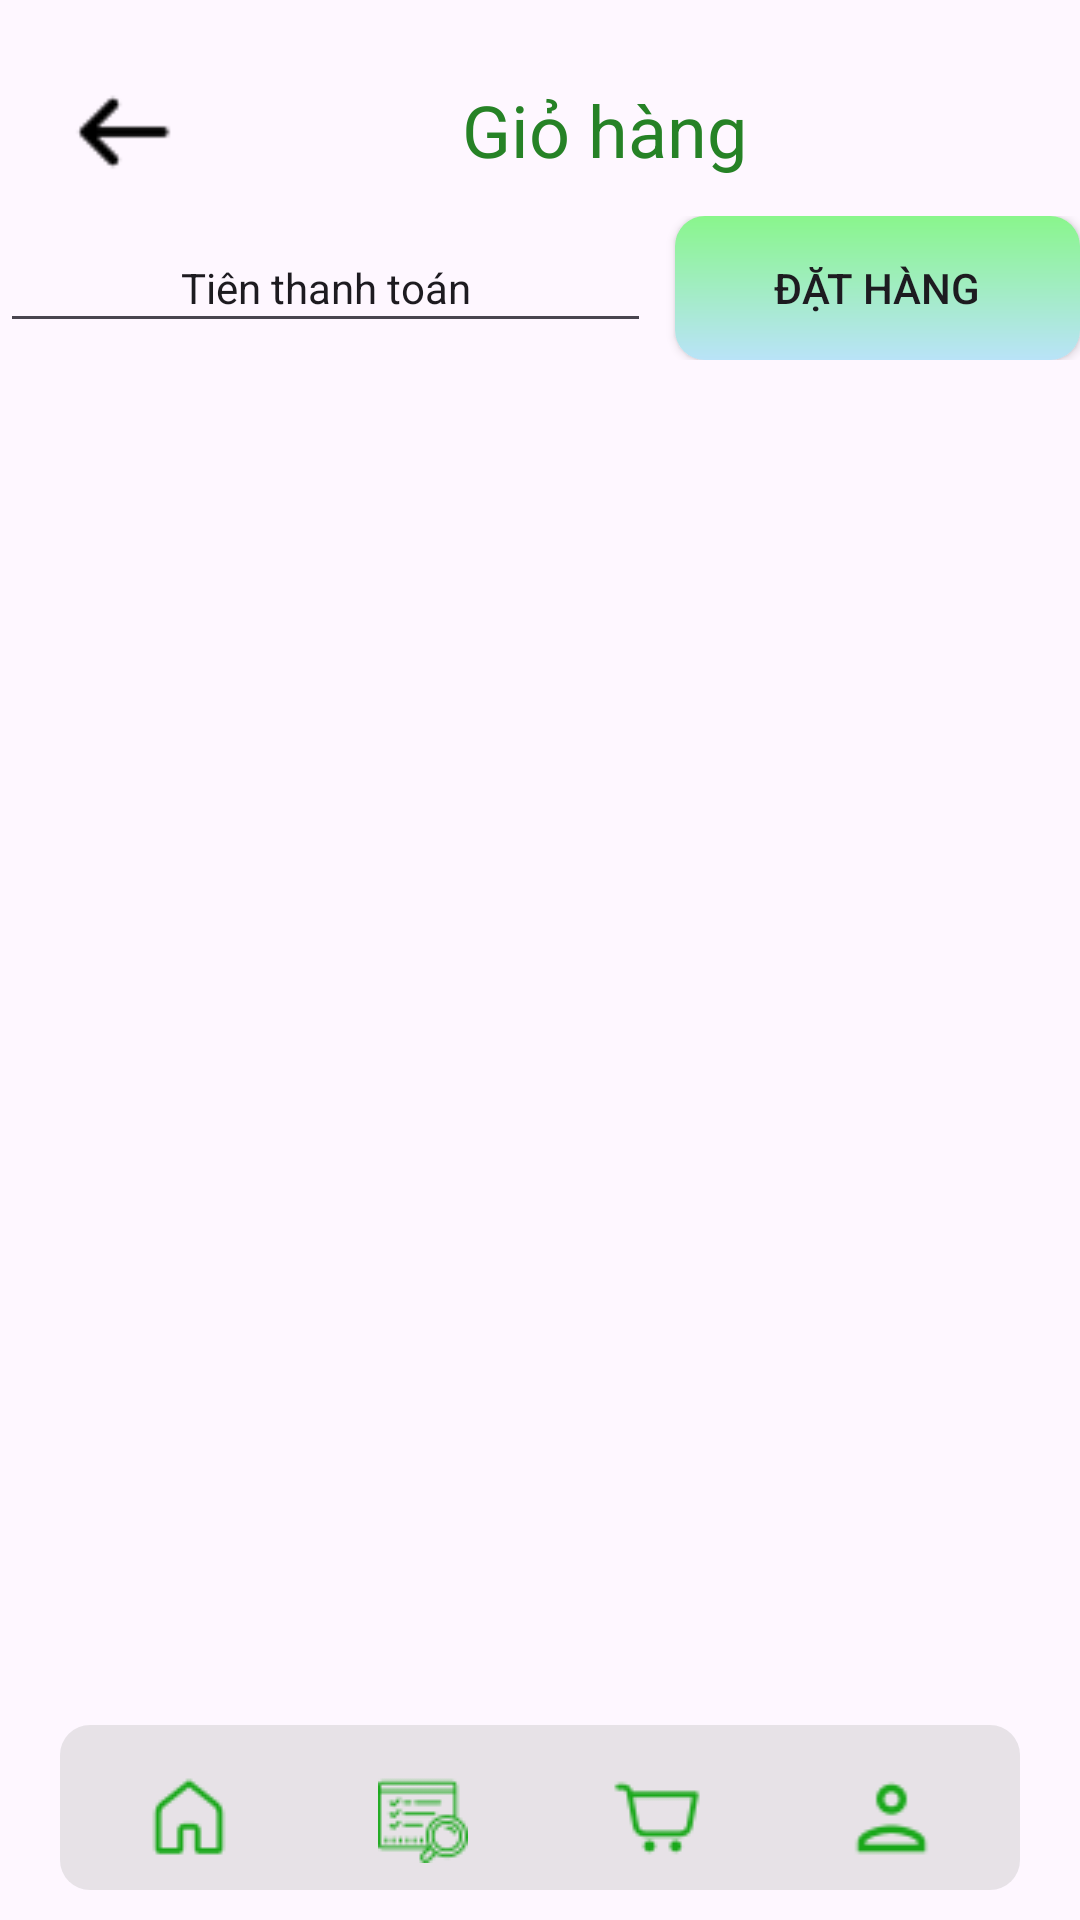

Named icons in this screenshot (1080w x 1920h) and their centers, [x,y]:
arrow back: [124,131]
home: [189,1817]
profile: [891,1818]
shoppingcart: [657,1818]
